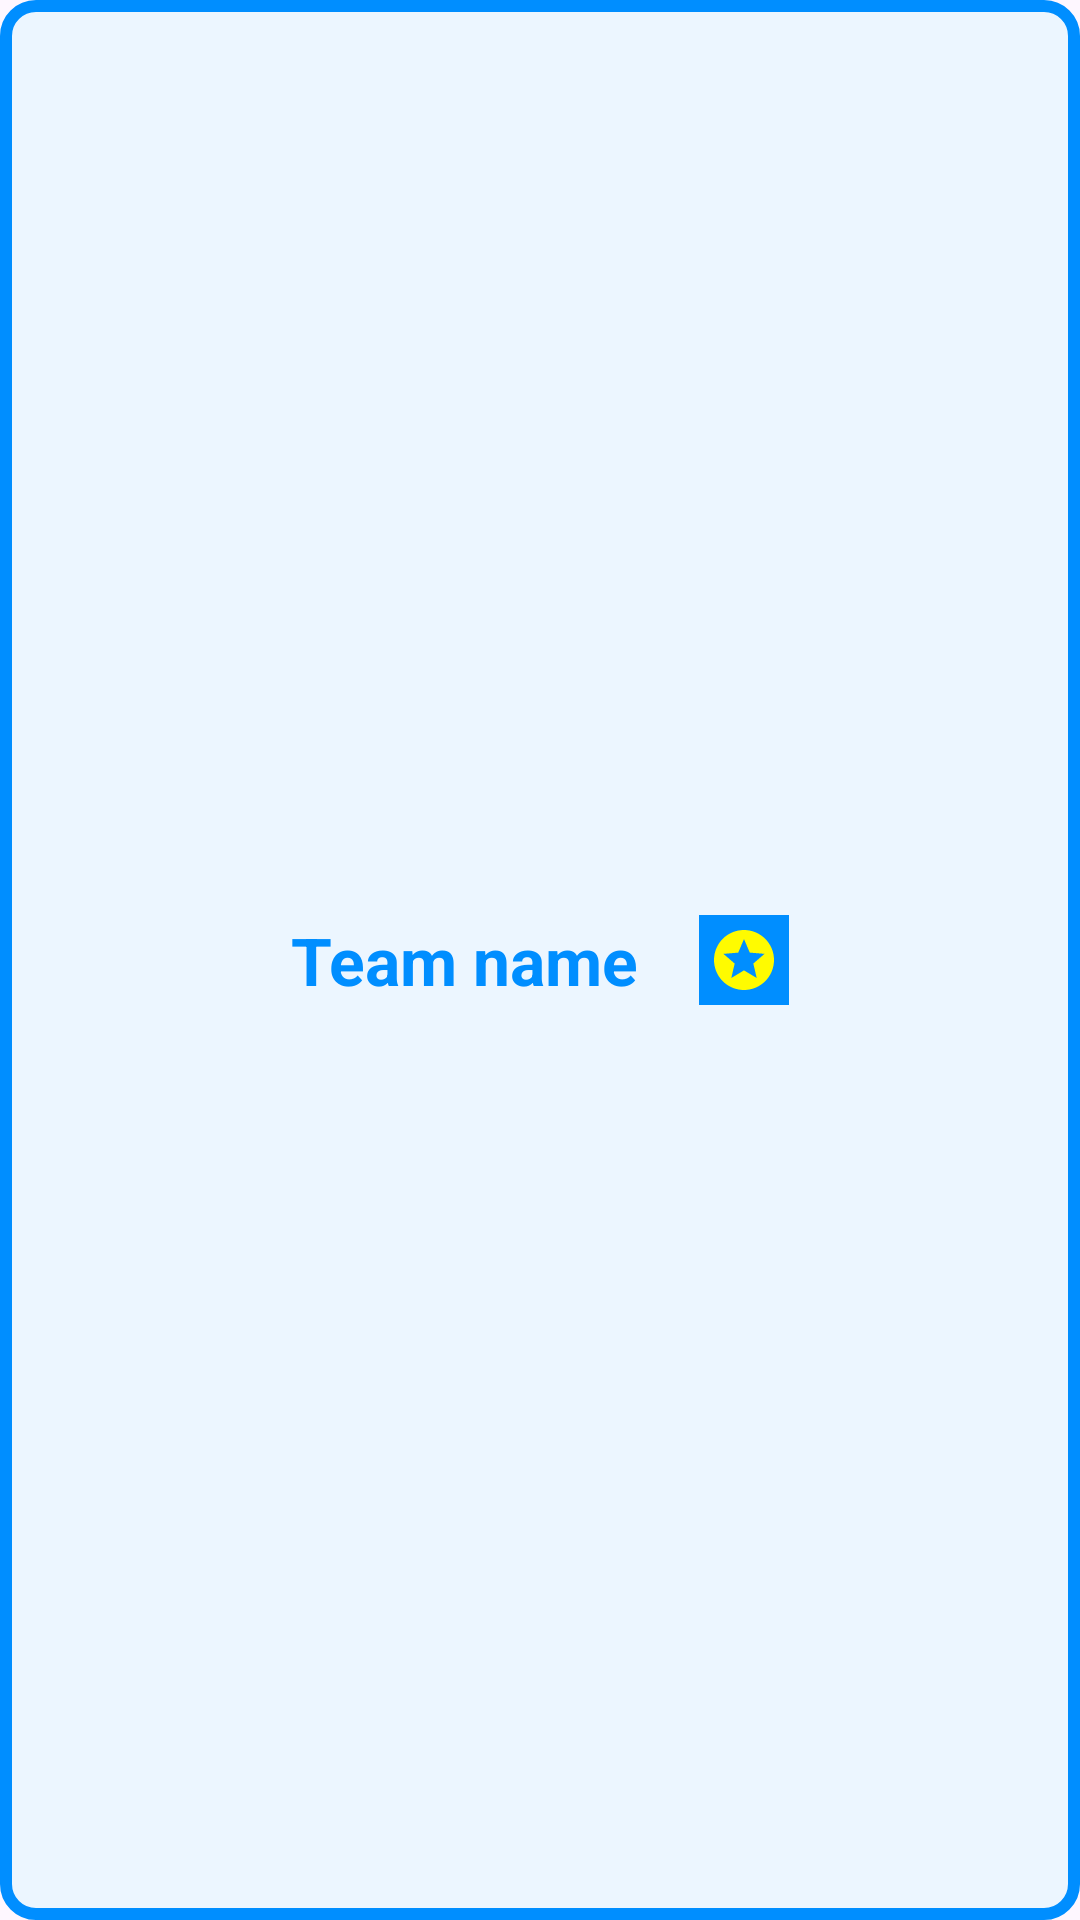

Where icons sit on this 1080 x 1920 app screen, as {"x1": x1, "y1": y1, "x2": x2, "y2": y2}:
stars: {"x1": 699, "y1": 915, "x2": 789, "y2": 1005}
